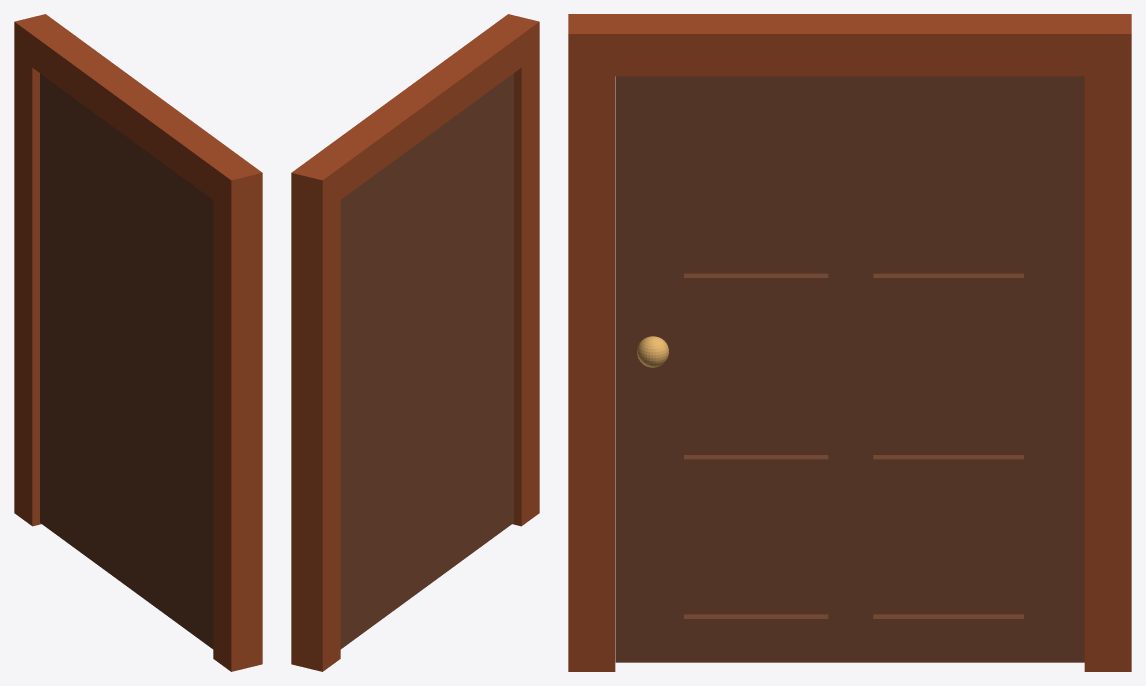
The model's file is Door.fbx.
3 views of the same model, side by side, from view 1: azimuth 30°, elevation 25°; view 2: azimuth 150°, elevation 25°; view 3: azimuth 270°, elevation 25° (orthographic). The views are drawn at different scales.
Parts seen in each view (by area): view 1: Cube.001, Cube; view 2: Cube.001, Cube; view 3: Cube.001, Cube, Sphere.
Boxes of the visible parts, x1=… form: Cube.001: x1=40, y1=73, x2=213, y2=649; Cube: x1=14, y1=14, x2=262, y2=671; Cube.001: x1=340, y1=73, x2=513, y2=649; Cube: x1=291, y1=14, x2=539, y2=671; Cube.001: x1=615, y1=76, x2=1084, y2=662; Cube: x1=568, y1=14, x2=1131, y2=671; Sphere: x1=637, y1=336, x2=668, y2=367.
Size of the model in its own units: 0.5146 by 7.5 by 6.
